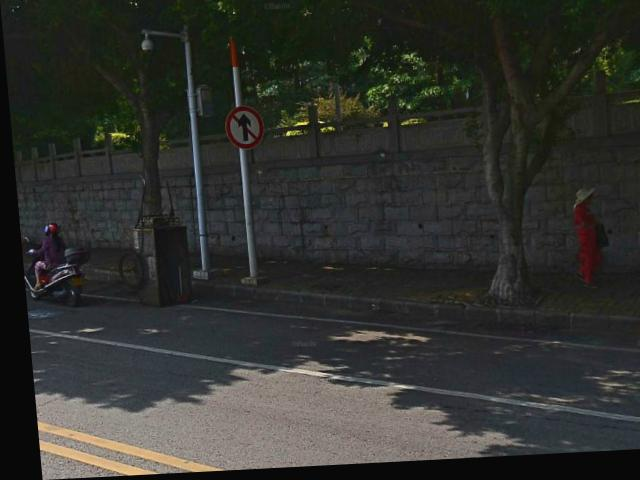not_go_straight: (222, 106, 262, 155)
